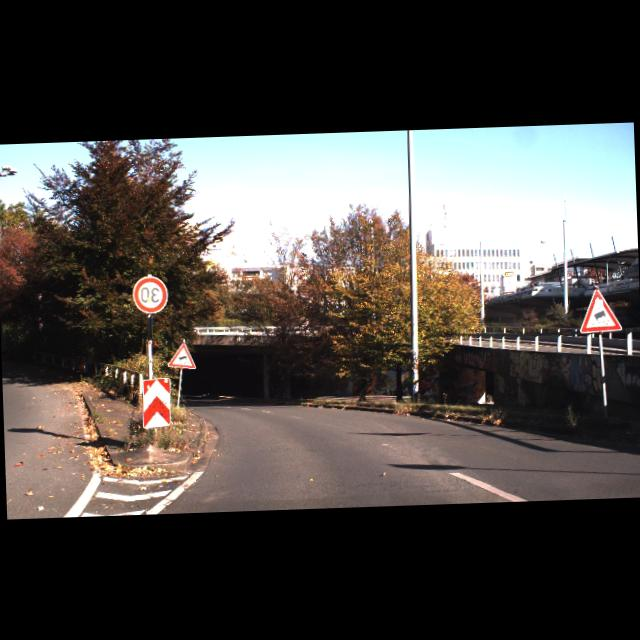danger: (579, 286, 623, 330), (166, 341, 196, 369)
prohibitory: (132, 274, 168, 312)
